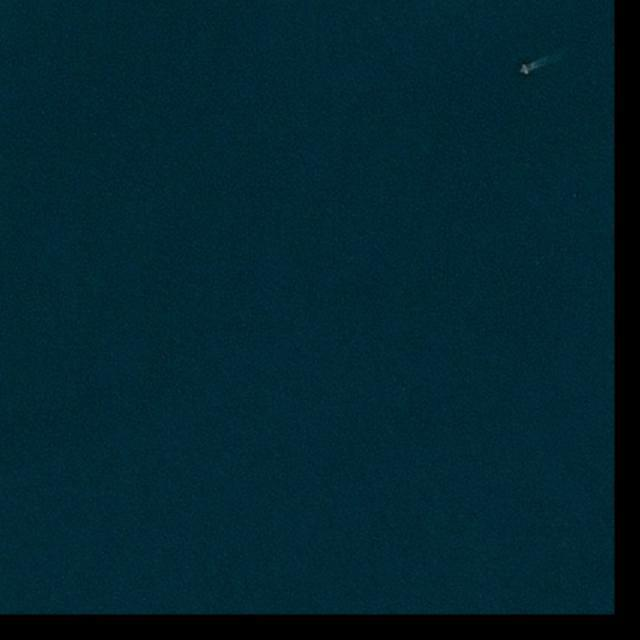ship: (518, 64, 530, 74)
